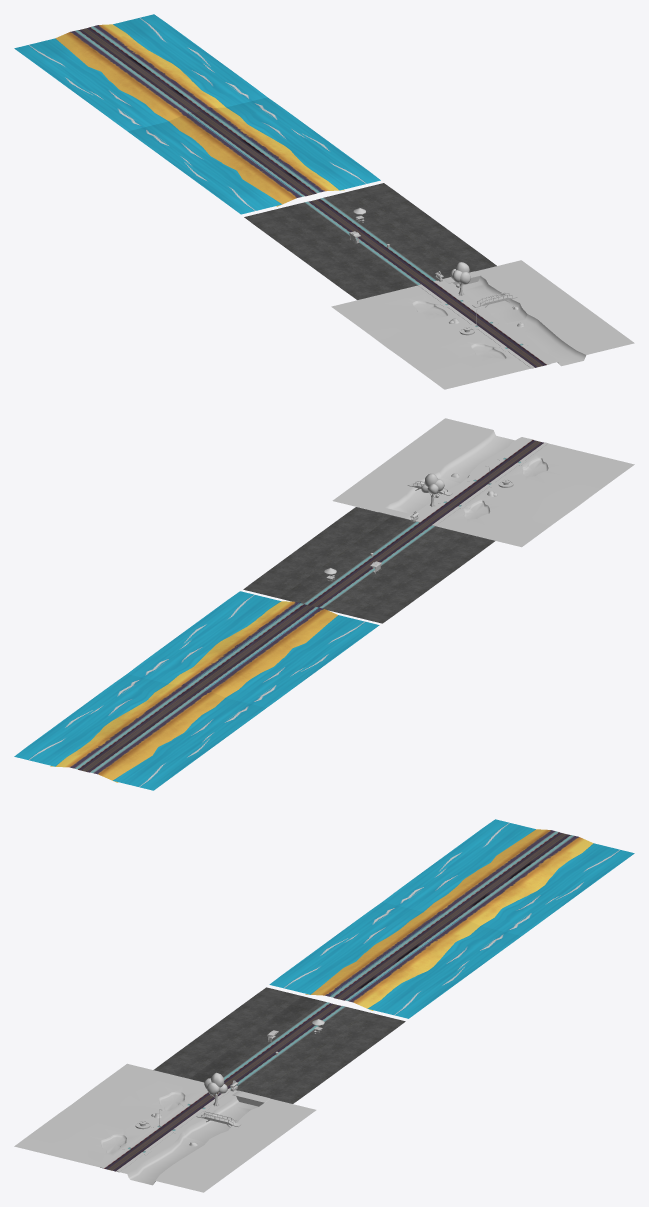
File: cityProps_beachRoad_groundRoad_center pivert.fbx
3 views of the same model, one above another, from view 1: azimuth 30°, elevation 25°; view 2: azimuth 150°, elevation 25°; view 3: azimuth 330°, elevation 25° (orthographic).
Visible parts, largest first — view 1: beachRoad01_low, beachRoad02_low, ground_pondSide_low, ground_riverSide_low, cityRoad_right_low, cityRoad_left_low, cityRoad_low, groundRoad_low; view 2: beachRoad02_low, beachRoad01_low, ground_pondSide_low, ground_riverSide_low, cityRoad_right_low, cityRoad_left_low, cityRoad_low, groundRoad_low; view 3: beachRoad01_low, beachRoad02_low, ground_pondSide_low, ground_riverSide_low, cityRoad_left_low, cityRoad_right_low, cityRoad_low, groundRoad_low.
Part boxes in pixels (x1,y1,x2,y2): beachRoad01_low: (128,97,380,214); beachRoad02_low: (14,14,266,131); ground_pondSide_low: (331,284,534,389); ground_riverSide_low: (433,260,634,366); cityRoad_right_low: (244,202,417,299); cityRoad_left_low: (324,183,496,280); cityRoad_low: (305,197,436,285); groundRoad_low: (422,281,546,367); beachRoad02_low: (14,674,265,790); beachRoad01_low: (127,591,379,707); ground_pondSide_low: (432,442,634,547); ground_riverSide_low: (332,418,532,522); cityRoad_right_low: (323,526,494,623); cityRoad_left_low: (243,507,415,603); cityRoad_low: (304,521,434,608); groundRoad_low: (420,440,543,525); beachRoad01_low: (269,902,521,1018); beachRoad02_low: (382,819,634,935); ground_pondSide_low: (14,1063,207,1168); ground_riverSide_low: (116,1088,316,1192); cityRoad_left_low: (236,1007,405,1103); cityRoad_right_low: (153,987,326,1082); cityRoad_low: (223,1002,345,1088); groundRoad_low: (104,1088,228,1171).
Bounding box in the file's own units: 10613 × 2011 × 44101.
